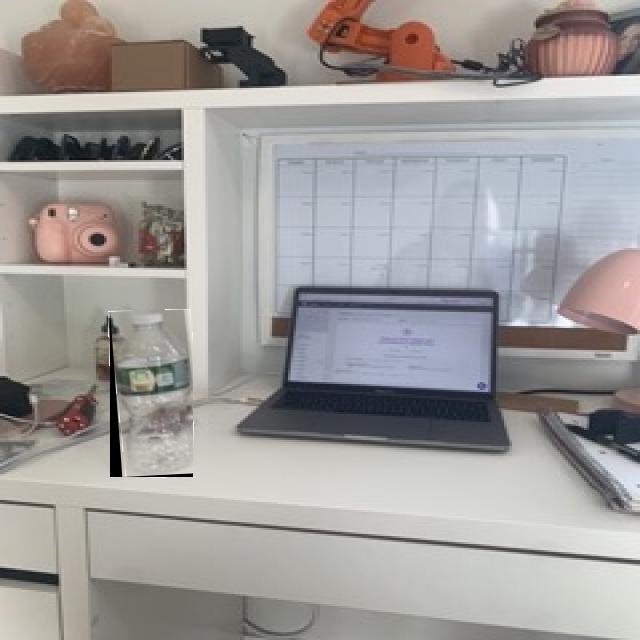water_bottle: (110, 310, 193, 477)
